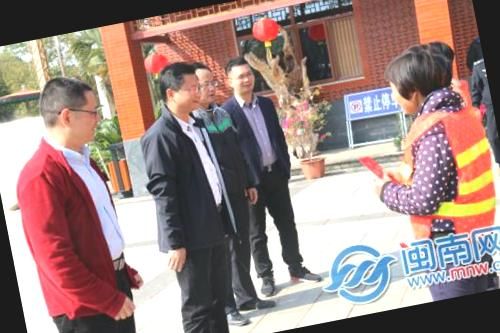no_helmet: (31, 66, 111, 154), (378, 37, 456, 118), (155, 56, 206, 116), (190, 59, 226, 112), (224, 55, 262, 99)
